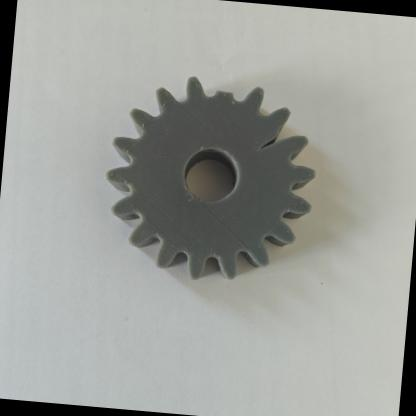defect: (240, 110, 330, 184), (190, 71, 254, 118)
gear: (82, 35, 356, 310)
